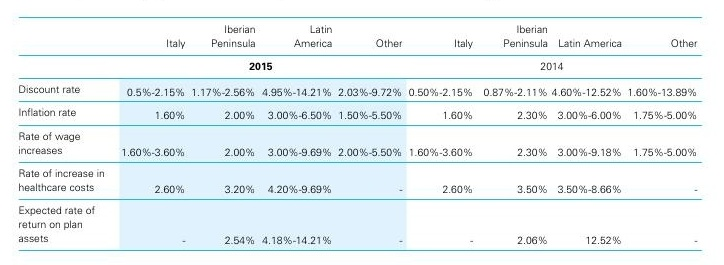table: (0, 0, 724, 265)
